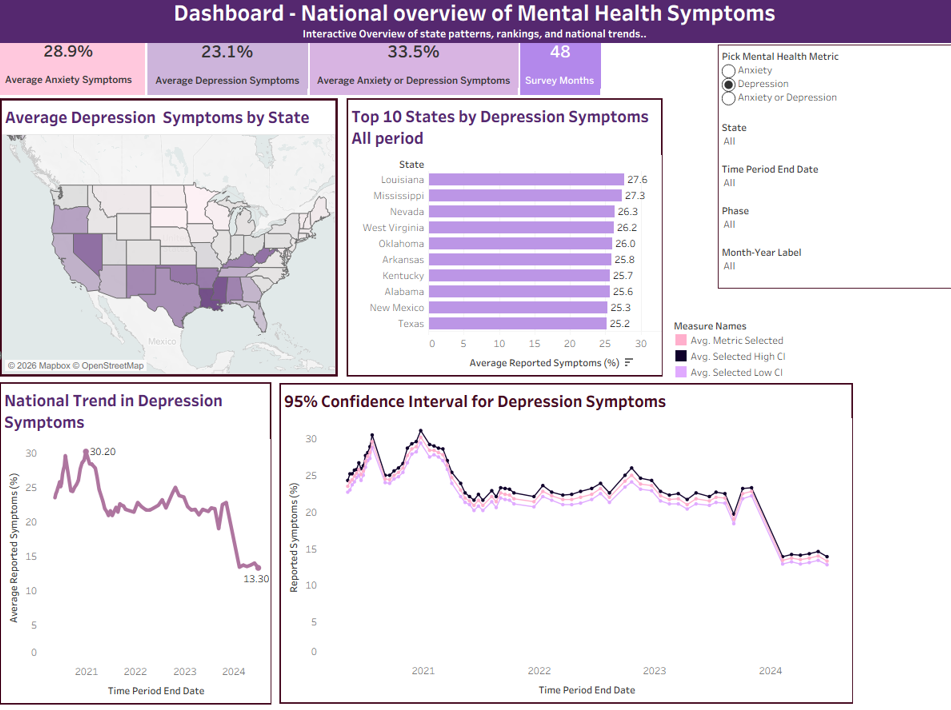

Layout of this report page (visuals, bound fields, positions):
{"tool":"tableau","page":{"name":"Dashboard 1 - National Overview","canvas":[1800,1100],"ordinal":0},"visuals":[{"type":"text","box":[0,0,1791,72]},{"type":"worksheet","title":"Average Anxiety Symptoms","mark":"Automatic","box":[0,73,278,86]},{"type":"worksheet","title":"KPI - Average Depression","mark":"Automatic","box":[282,73,300,86]},{"type":"worksheet","title":"KPI - Average Anxiety or Depression","mark":"Automatic","box":[586,73,314,86]},{"type":"worksheet","title":"KPI - Survey Periods","mark":"Automatic","box":[903,73,181,86]},{"type":"dashboard-object","box":[1089,73,197,86]},{"type":"parameter","param":"[Parameters].[Parameter 1]","box":[1352.5,76.8,437.5,90.8]},{"type":"filter","title":"Map - Interactive State View","param":"[federated.180qeyd17m9q7r1cjbm7q0wrwssg].[none:State:nk]","box":[1352.5,167.6,437.5,70]},{"type":"worksheet","title":"Map - Interactive State View","mark":"Multipolygon","box":[5,204,634,379]},{"type":"worksheet","title":"Top 10 States - Interactive","mark":"Automatic","rows":["State"],"cols":["Calculation_0808207667912704"],"box":[656,204,592,379]},{"type":"filter","title":"Map - Interactive State View","param":"[federated.180qeyd17m9q7r1cjbm7q0wrwssg].[none:Time Period End Date:ok]","box":[1352.5,237.6,437.5,70]},{"type":"filter","title":"Map - Interactive State View","param":"[federated.180qeyd17m9q7r1cjbm7q0wrwssg].[none:Phase:ok]","box":[1352.5,307.6,437.5,70]},{"type":"filter","title":"Top 10 States - Interactive","param":"[federated.180qeyd17m9q7r1cjbm7q0wrwssg].[none:Calculation_0808207677734920:nk]","box":[1352.5,377.6,437.5,70]},{"type":"legend","title":"Confidence Interval","param":"[federated.180qeyd17m9q7r1cjbm7q0wrwssg].[:Measure Names]","box":[1268,493,334,97]},{"type":"worksheet","title":"National Trend - Interactive","mark":"Line","rows":["Calculation_0808207667912704"],"cols":["Time Period End Date"],"box":[4.5,591.6,510,492.6]},{"type":"worksheet","title":"Confidence Interval","mark":"Line","cols":["Time Period End Date"],"box":[529.5,592.8,1075.5,490.1]}]}

Visuals, with their boxes on the page's 1800x1100 design canvas (x1, y1, x2, y2). These are canvas units, not pixel positions in the 951x710 screenshot, which may show the page scaled, cropped or inside an application window:
text: Rect(0, 0, 1791, 72)
"Average Anxiety Symptoms" worksheet: Rect(0, 73, 278, 159)
"KPI - Average Depression" worksheet: Rect(282, 73, 582, 159)
"KPI - Average Anxiety or Depression" worksheet: Rect(586, 73, 900, 159)
"KPI - Survey Periods" worksheet: Rect(903, 73, 1084, 159)
dashboard-object: Rect(1089, 73, 1286, 159)
parameter: Rect(1352, 77, 1790, 168)
"Map - Interactive State View" filter: Rect(1352, 168, 1790, 238)
"Map - Interactive State View" worksheet (Multipolygon marks): Rect(5, 204, 639, 583)
"Top 10 States - Interactive" worksheet: Rect(656, 204, 1248, 583)
"Map - Interactive State View" filter: Rect(1352, 238, 1790, 308)
"Map - Interactive State View" filter: Rect(1352, 308, 1790, 378)
"Top 10 States - Interactive" filter: Rect(1352, 378, 1790, 448)
"Confidence Interval" legend: Rect(1268, 493, 1602, 590)
"National Trend - Interactive" worksheet (Line marks): Rect(4, 592, 514, 1084)
"Confidence Interval" worksheet (Line marks): Rect(530, 593, 1605, 1083)
